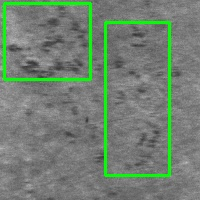rolled-in_scale: (105, 22, 169, 175), (4, 3, 90, 79), (44, 114, 112, 165)
